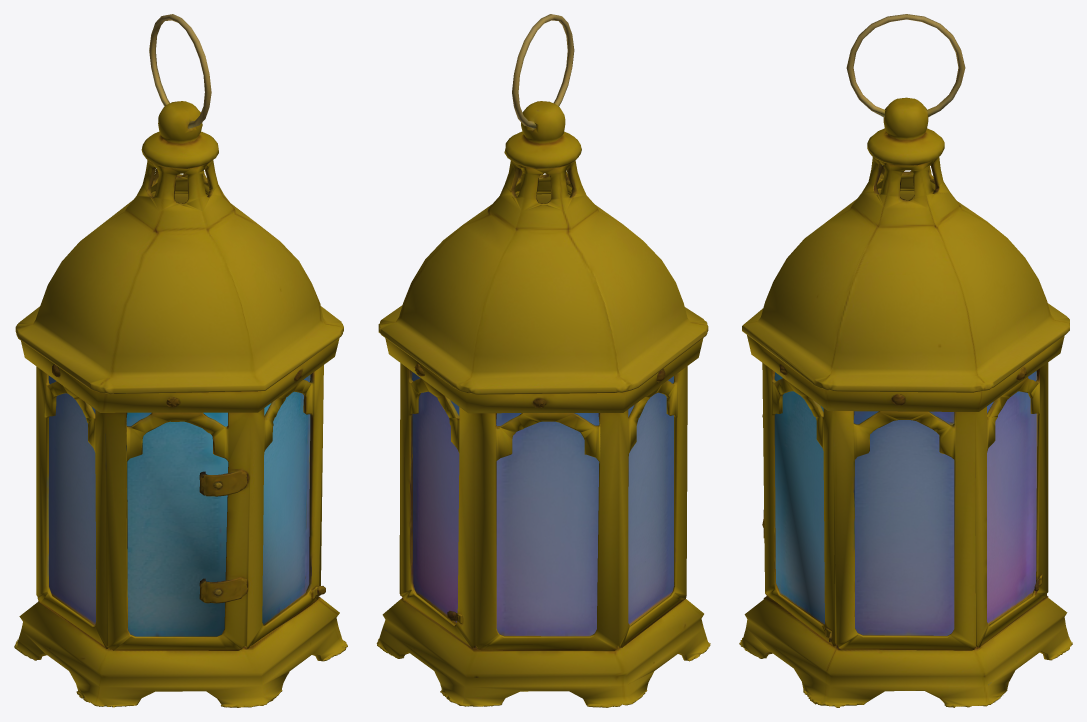
The model's file is r33-lantern.glb.
3 views of the same model, side by side, from view 1: azimuth 30°, elevation 25°; view 2: azimuth 150°, elevation 25°; view 3: azimuth 270°, elevation 25° (orthographic).
Parts seen in each view (by area): view 1: tripo_node_a29d6816-e39a-473a-b4b7-33851ba92b9f; view 2: tripo_node_a29d6816-e39a-473a-b4b7-33851ba92b9f; view 3: tripo_node_a29d6816-e39a-473a-b4b7-33851ba92b9f.
Boxes of the visible parts, x1=… form: tripo_node_a29d6816-e39a-473a-b4b7-33851ba92b9f: x1=14, y1=14, x2=347, y2=707; tripo_node_a29d6816-e39a-473a-b4b7-33851ba92b9f: x1=376, y1=14, x2=710, y2=707; tripo_node_a29d6816-e39a-473a-b4b7-33851ba92b9f: x1=739, y1=14, x2=1072, y2=707.
Bounding box in the file's own units: 0.4277 × 0.998 × 0.4785.
1 material, 1 textured.
